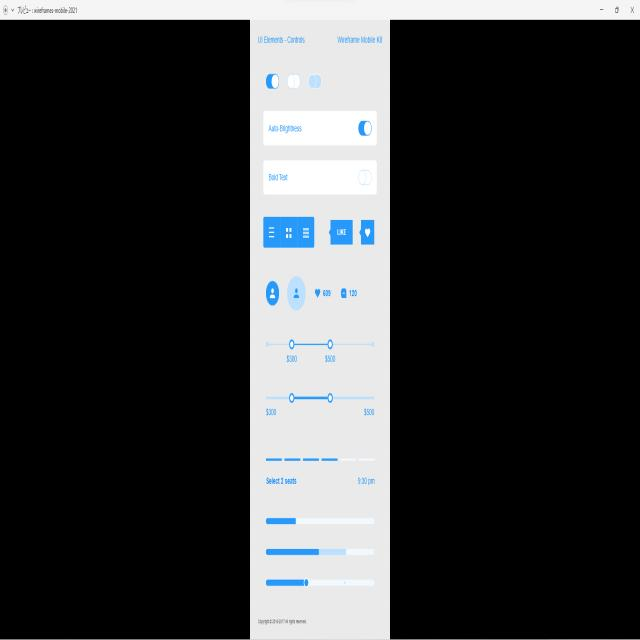toggle: (285, 69, 306, 91), (357, 168, 373, 187), (308, 70, 322, 91), (358, 119, 372, 138), (265, 72, 279, 90)
